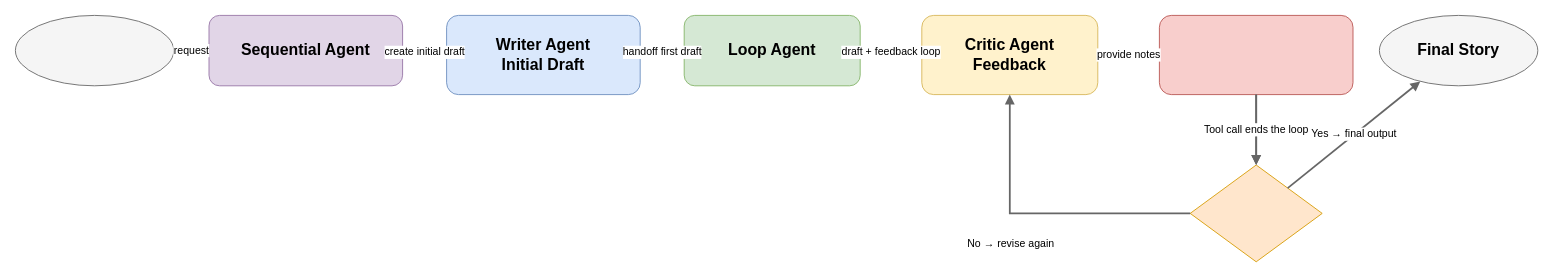
The diagram is 1553 pixels wide and 277 high, and some of its shapes have lost their labels. Here are the shapes that lost their labels. From the top down, the centre of each, then its label:
At (94,50): "User Request".
At (1256,55): "Refiner Agent Rewrite Story".
At (1255,213): "Approved?".
